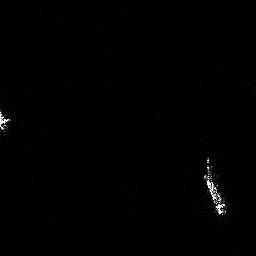ship: (200, 152, 233, 217)
